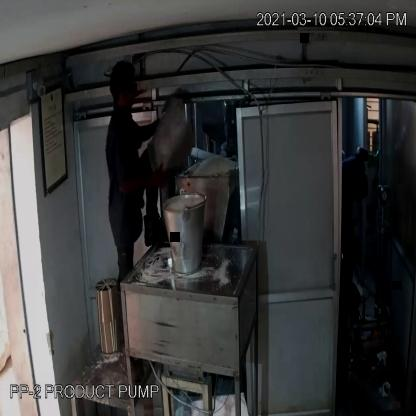no_glove: (116, 158, 178, 201)
